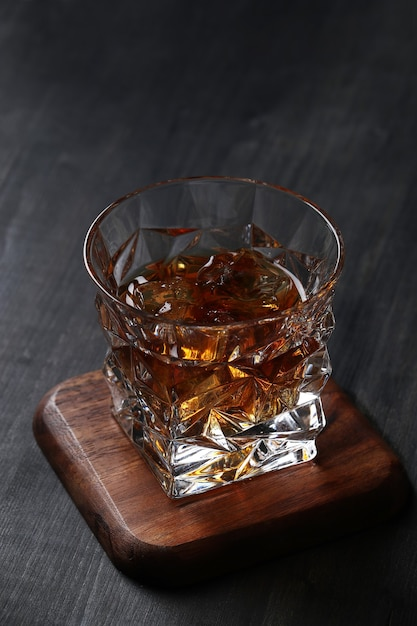alcohol: (77, 172, 348, 496)
